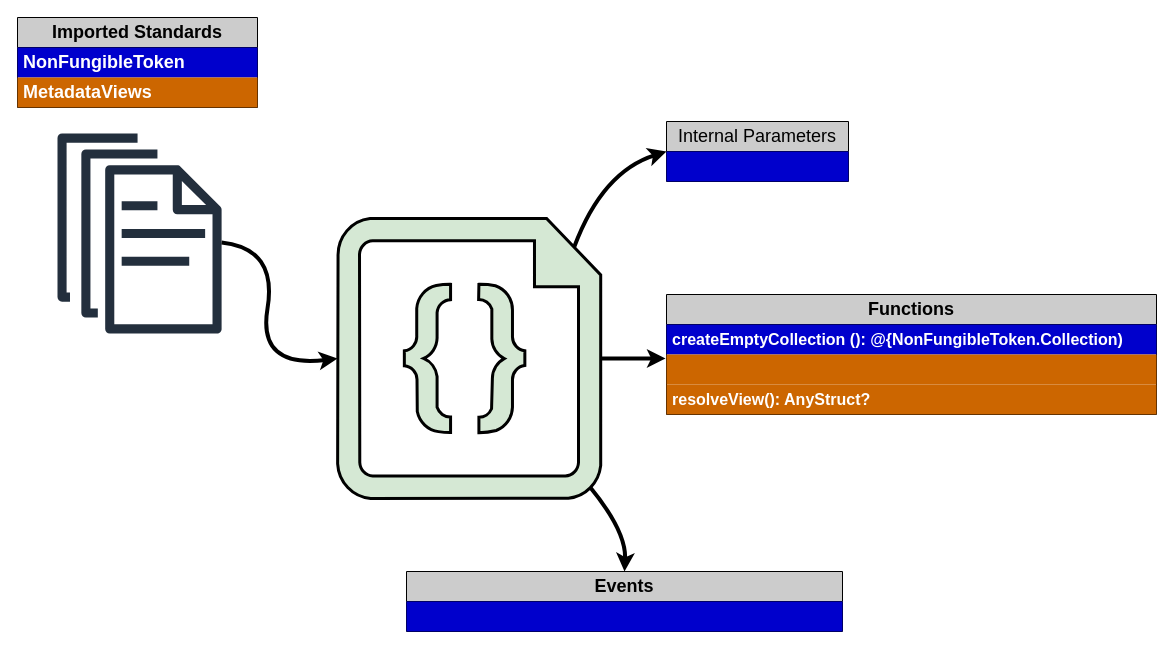
This 1174x649 diagram has some shape labels left out. Each missing label, with the centre of its shape:
Cadence Non-Fungible Token Resource: [469,358]
getViews(): [Type]: [911,369]
id: UInt64: [757,166]
ResourceDestroyed(id: UInt64, uuid: UInt64): [624,616]
